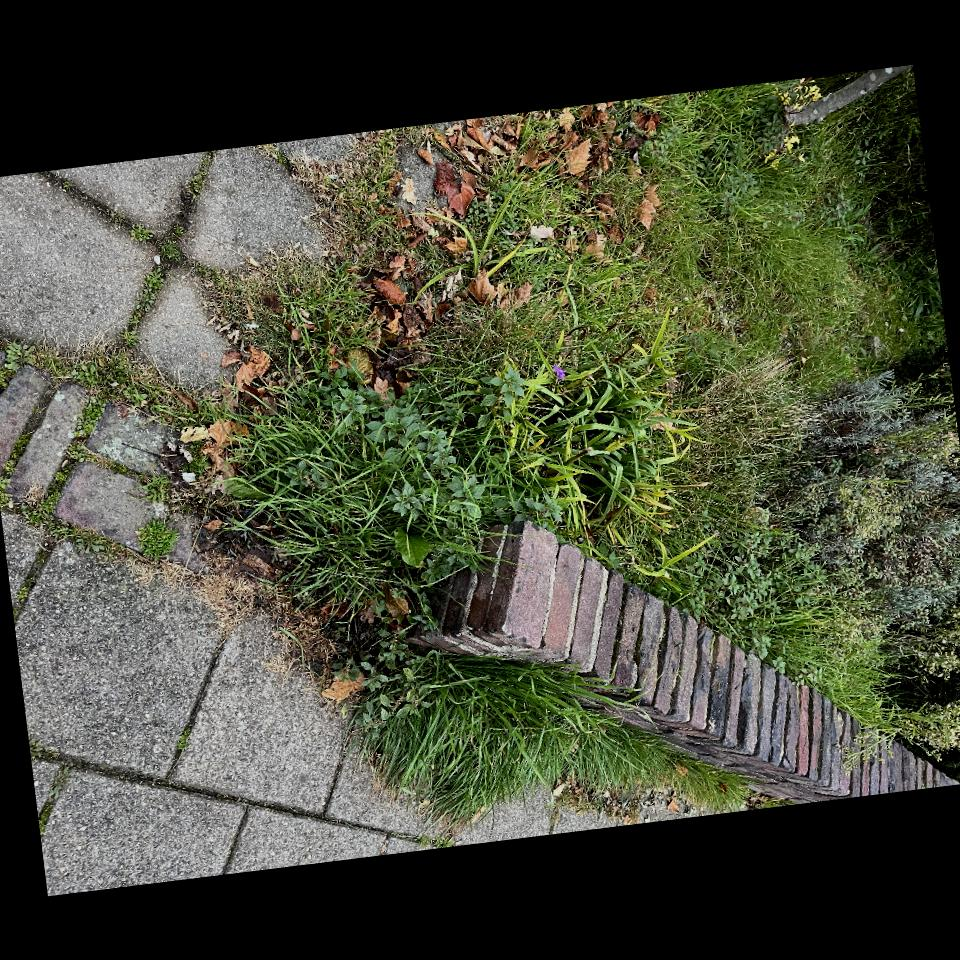weed: (404, 573, 762, 838), (779, 313, 955, 712), (284, 850, 481, 946), (273, 671, 375, 751), (483, 853, 558, 960), (653, 886, 691, 927), (357, 907, 373, 936)
